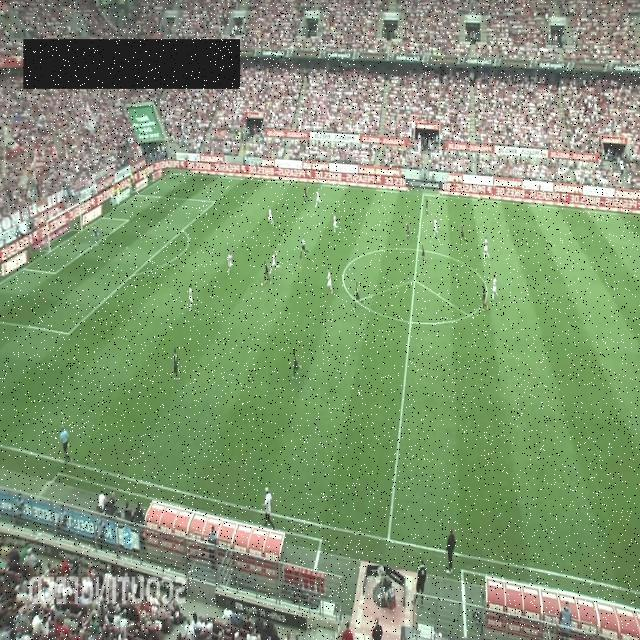Ball: (260, 282, 264, 286)
Corner: (167, 157, 175, 178)
GoalKeeper: (91, 223, 99, 247)
Referee: (59, 424, 72, 464), (299, 235, 309, 259), (477, 182, 481, 202)
TEAM 1: (326, 269, 334, 295), (491, 274, 499, 300), (482, 236, 490, 260), (270, 252, 280, 270), (188, 283, 194, 311), (314, 190, 322, 208), (433, 216, 439, 238), (227, 252, 233, 274), (268, 208, 274, 227), (333, 214, 339, 232)
TEAM 2: (352, 281, 366, 313), (292, 348, 302, 380), (172, 346, 180, 379), (262, 260, 272, 286), (481, 282, 489, 312), (459, 224, 466, 246), (406, 220, 410, 240), (424, 196, 428, 216), (422, 244, 426, 262), (304, 186, 308, 202)
